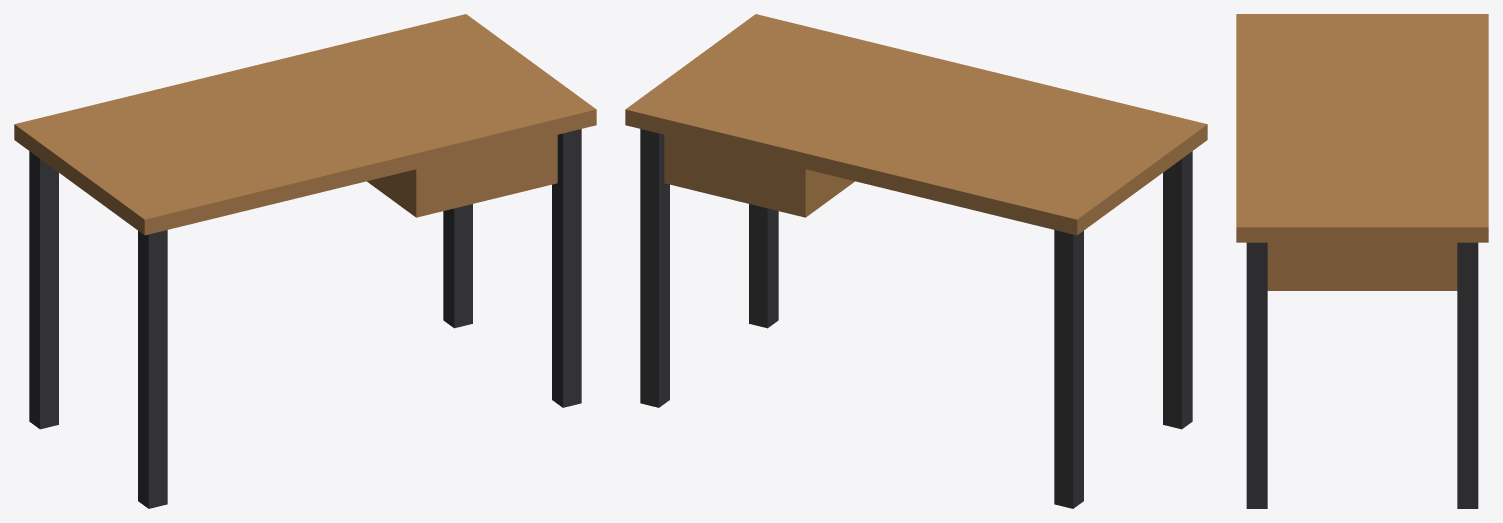
Rendered from desk.glb.
The picture shows the model from 3 angles, left to right: view 1: azimuth 30°, elevation 25°; view 2: azimuth 150°, elevation 25°; view 3: azimuth 270°, elevation 25°; orthographic projection. The views are drawn at different scales.
Parts seen in each view (by area): view 1: top, leg (×4), drawer; view 2: top, leg (×4), drawer; view 3: top, leg (×2), drawer.
Part boxes in pixels (<box>): top: <box>14,14,596,235</box>; leg (×4): <box>29,129,581,508</box>; drawer: <box>367,135,557,217</box>; top: <box>625,14,1207,235</box>; leg (×4): <box>640,129,1192,508</box>; drawer: <box>664,135,854,217</box>; top: <box>1236,14,1488,242</box>; leg (×2): <box>1246,242,1478,508</box>; drawer: <box>1267,242,1457,290</box>.
Bounding box in the file's own units: 1.2 × 0.75 × 0.6.
